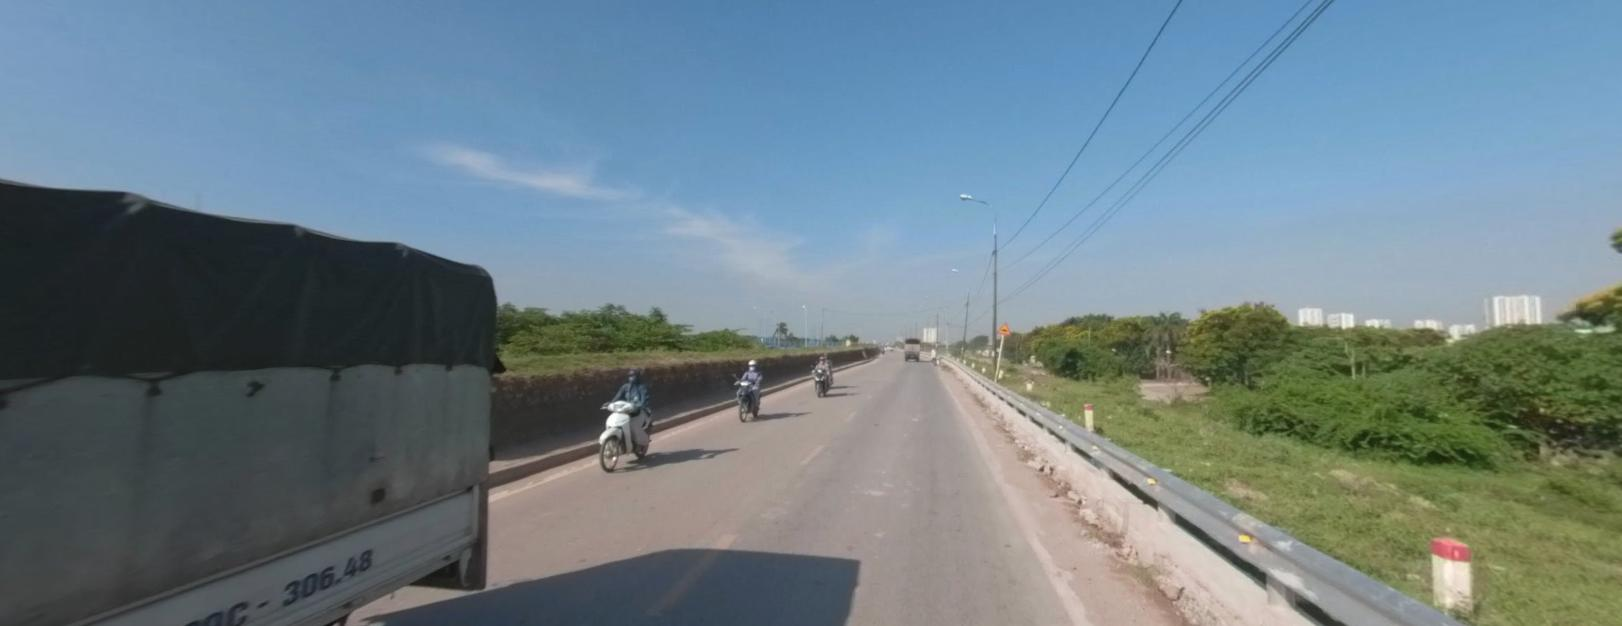Nguy hiem: (997, 320, 1011, 334), (997, 322, 1009, 333)
